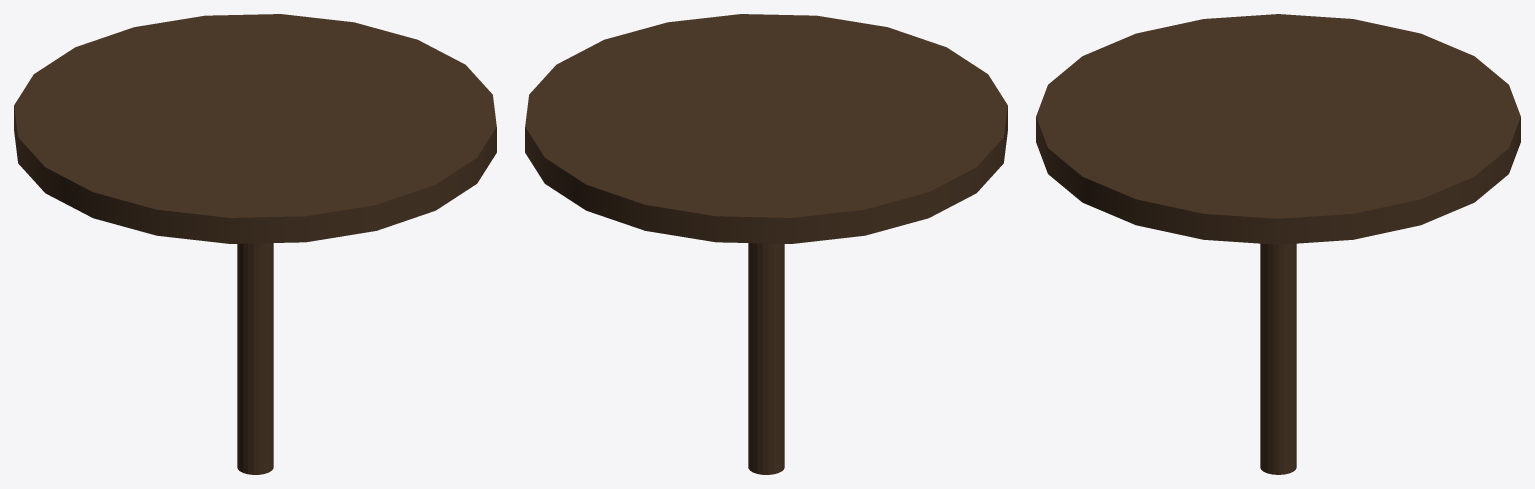
File: Table_Temp.fbx
3 renders of one model, left to right at view 1: azimuth 30°, elevation 25°; view 2: azimuth 150°, elevation 25°; view 3: azimuth 270°, elevation 25°, orthographic.
Visible parts, largest first — view 1: pCylinder2; view 2: pCylinder2; view 3: pCylinder2.
Part boxes in pixels (left/top/right/bottom): pCylinder2: left=14, top=14, right=496, bottom=474; pCylinder2: left=525, top=14, right=1007, bottom=474; pCylinder2: left=1036, top=14, right=1520, bottom=474.
Size of the model in its own units: 184 by 147 by 184.
